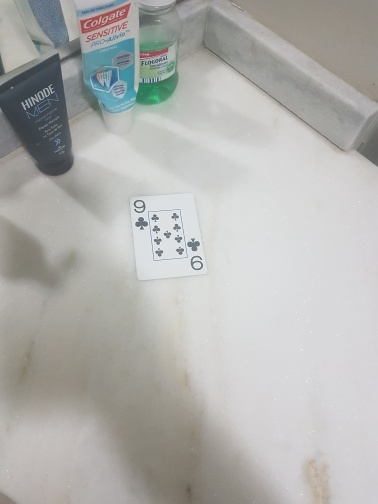nine: (130, 194, 208, 281)
